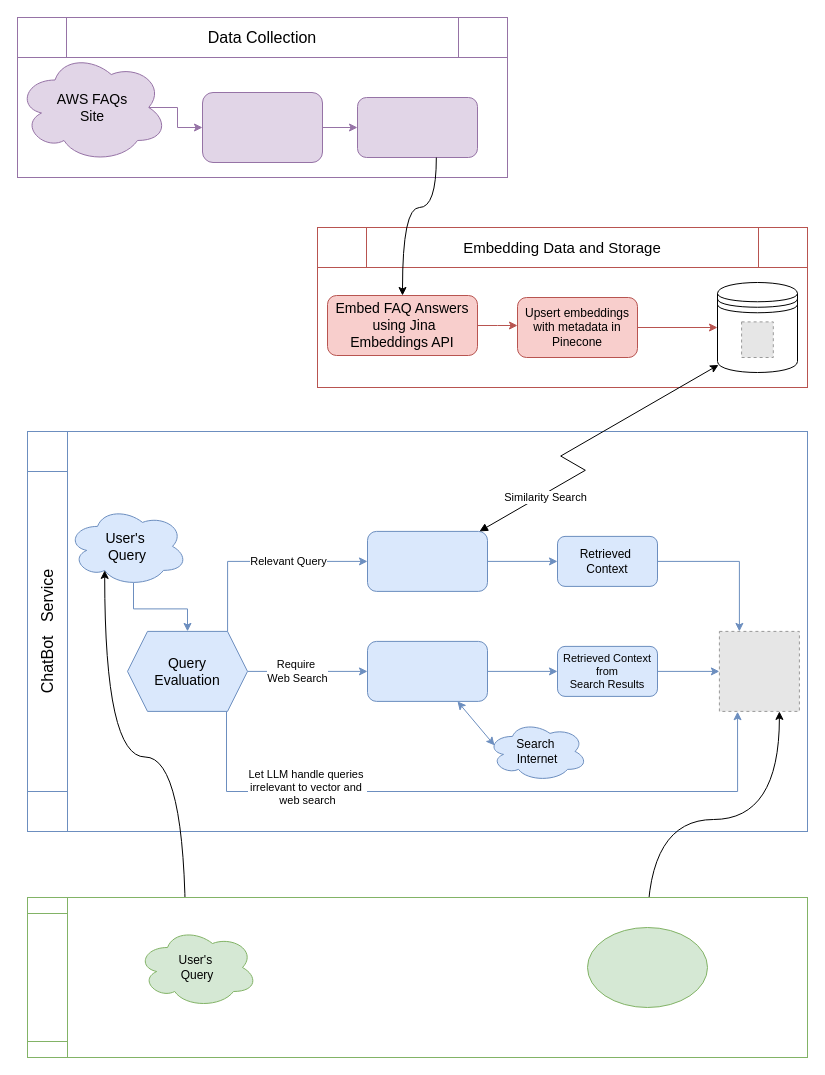
Image size: 825x1075. Some labels were removed from this diagram. Grey dashed boxes stand in for pictures. The box of each missing label's shape, as (x1, y1, x2, y2) in pixels:
Chat Interface: (26, 896, 68, 1058)
Clean and Process the FAQ Answers: (356, 96, 478, 158)
LLM Generated Response: (586, 926, 708, 1008)
Retriever Tool: (366, 530, 488, 591)
Scrape FAQs and answers, save to CSV.: (202, 92, 322, 162)
Tavily Search Tool: (366, 640, 488, 701)
